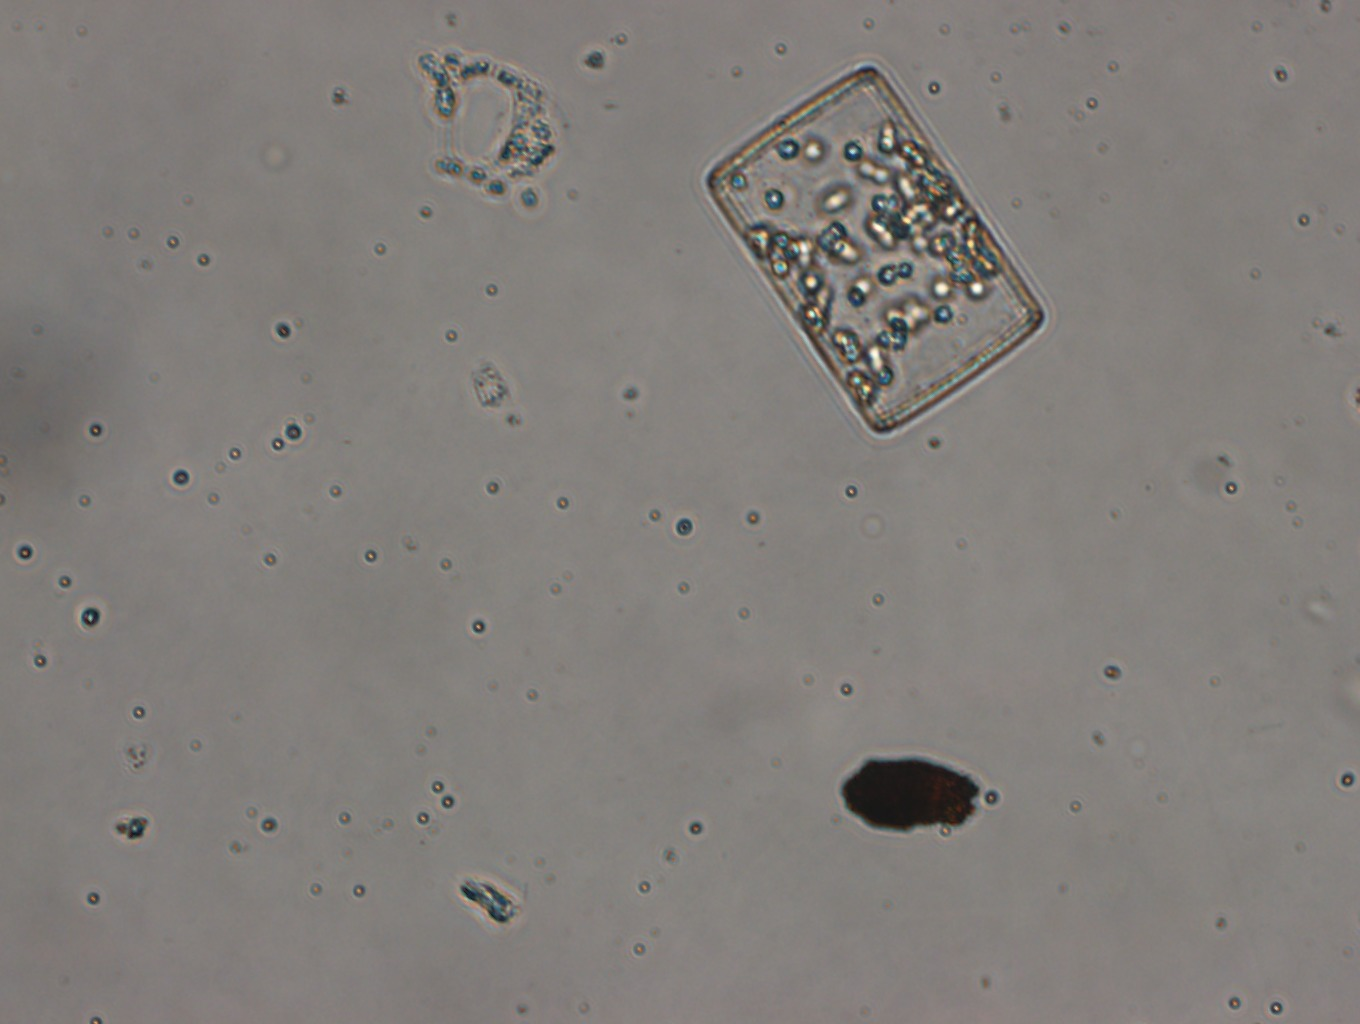guinardia flaccida: (703, 65, 1045, 433)
